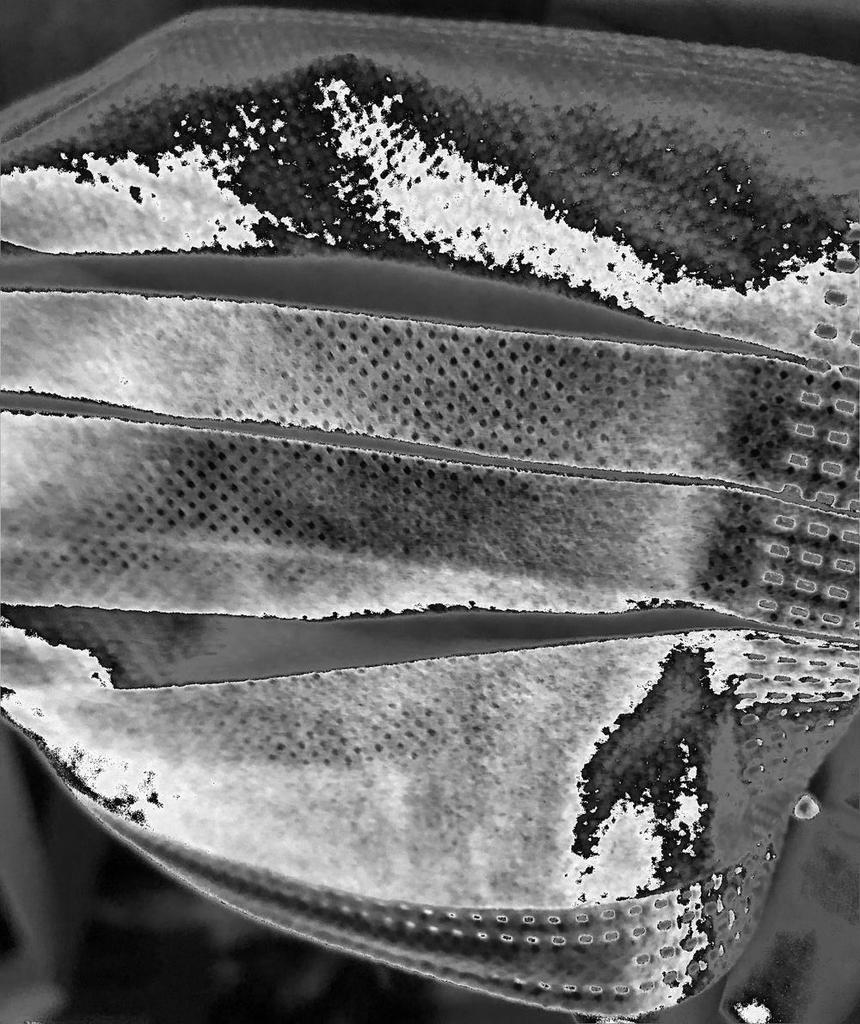Low GSM: (10, 92, 750, 903)
